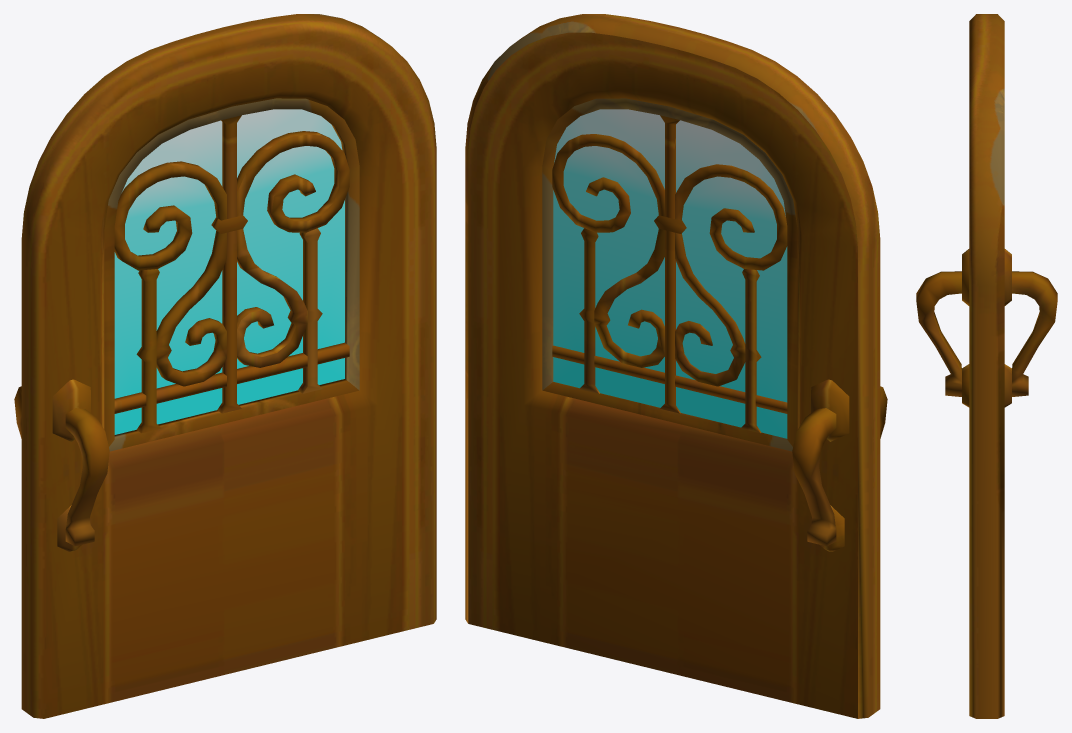
The model's file is porta.fbx.
3 views of the same model, side by side, from view 1: azimuth 30°, elevation 25°; view 2: azimuth 150°, elevation 25°; view 3: azimuth 270°, elevation 25° (orthographic). The views are drawn at different scales.
Parts seen in each view (by area): view 1: BodyR12__mDoorR, Glass__mWindowGlass; view 2: BodyR12__mDoorR, Glass__mWindowGlass; view 3: BodyR12__mDoorR.
Part boxes in pixels (<box>): BodyR12__mDoorR: <box>14,14,436,718</box>; Glass__mWindowGlass: <box>114,109,344,434</box>; BodyR12__mDoorR: <box>465,14,887,718</box>; Glass__mWindowGlass: <box>553,109,787,438</box>; BodyR12__mDoorR: <box>916,14,1057,718</box>.
Bounding box in the file's own units: 720 × 1080 × 238.
